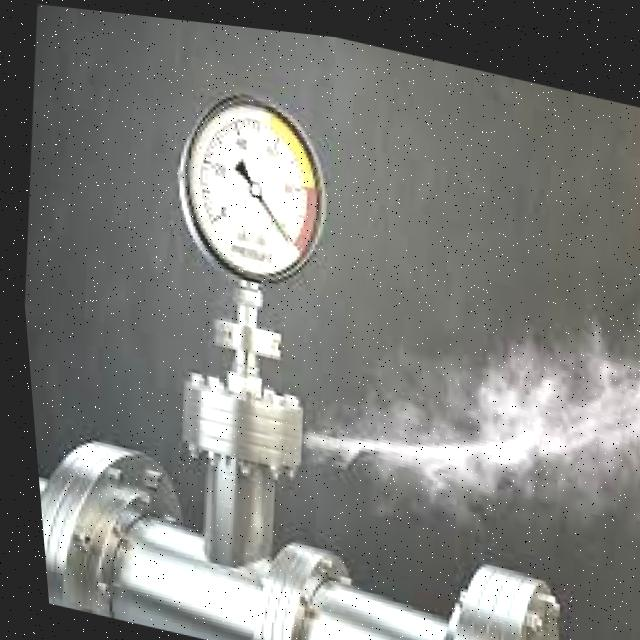corrosion: (250, 359, 492, 611)
